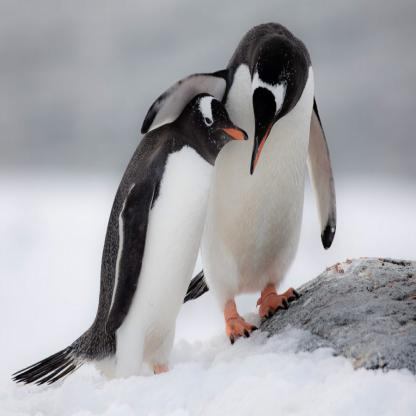Penguin: (12, 81, 249, 393), (133, 17, 343, 349)
